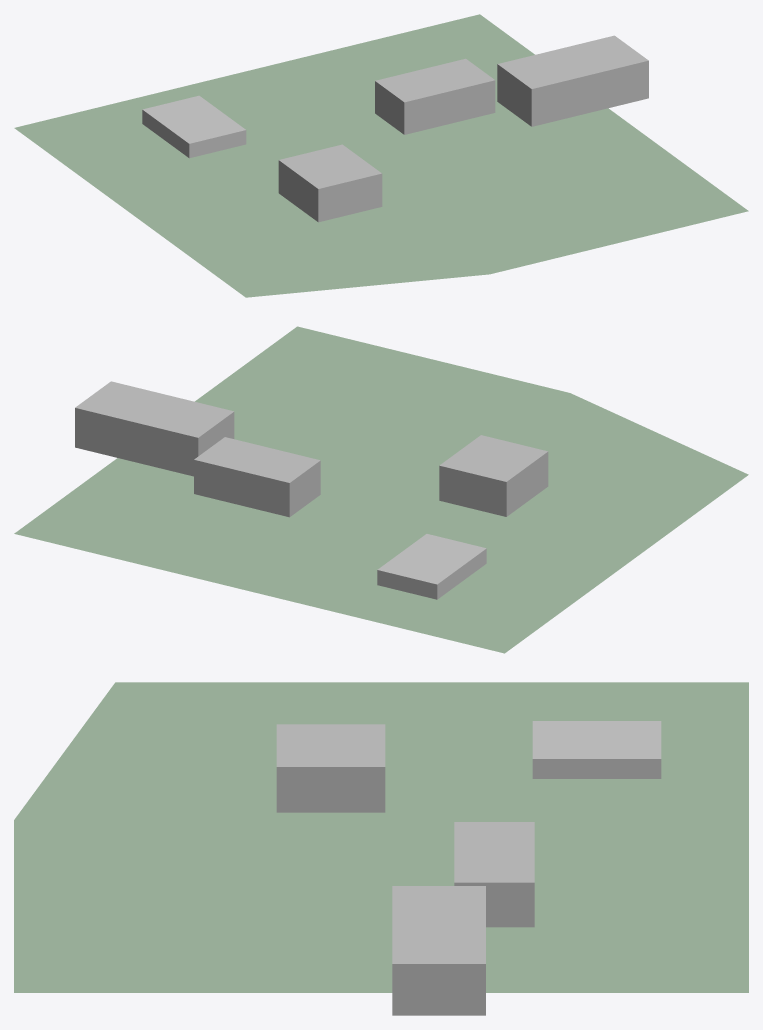
The model's file is 122_119_mid.glb.
The picture shows the model from 3 angles, top to bottom: view 1: azimuth 30°, elevation 25°; view 2: azimuth 150°, elevation 25°; view 3: azimuth 270°, elevation 25°; orthographic projection. The views are drawn at different scales.
Bounding box in the file's own units: 541 × 45.43 × 500.
